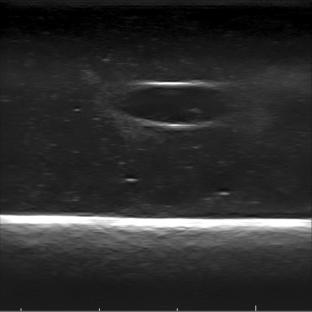vessel: (111, 80, 233, 132)
